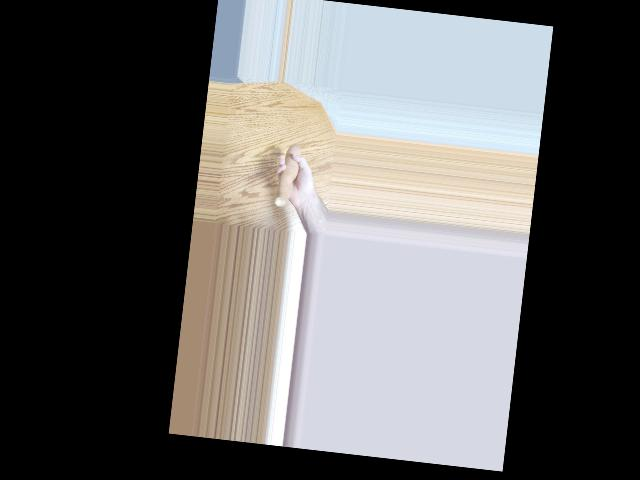sweet_potato: (275, 138, 305, 210)
